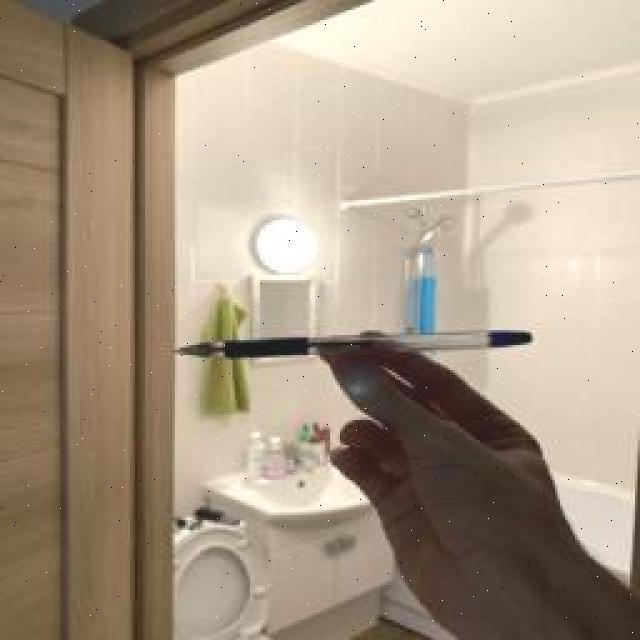pen: (172, 325, 530, 360)
